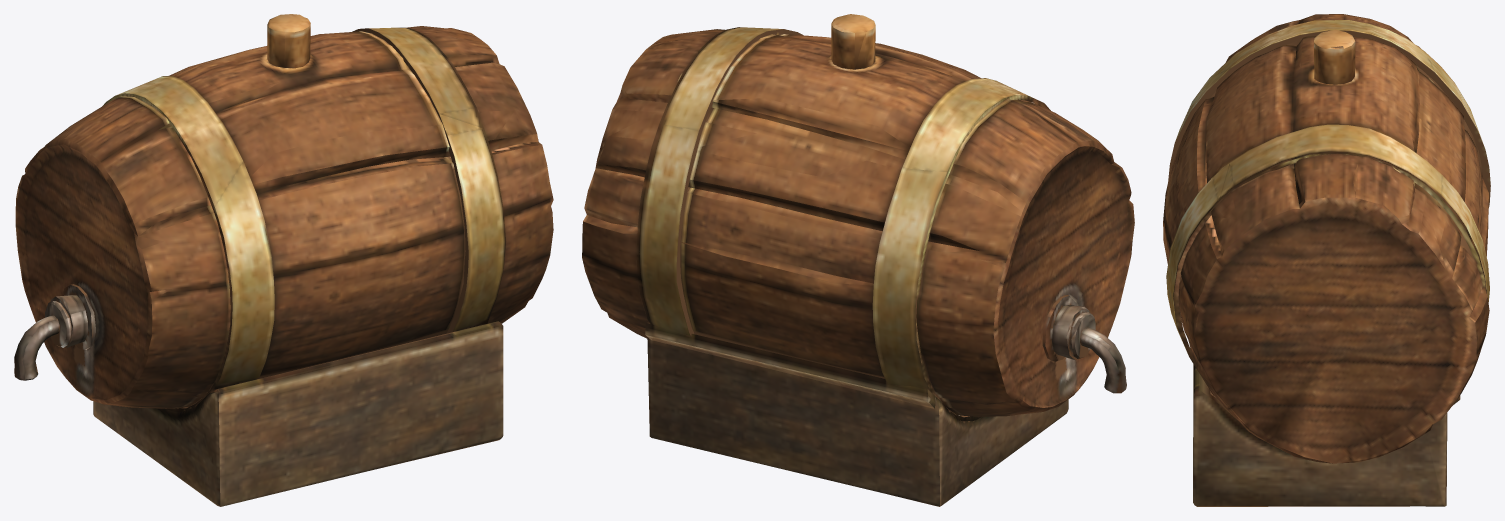
Rendered from item_mm9_10249.glb.
3 renders of one model, left to right at view 1: azimuth 30°, elevation 25°; view 2: azimuth 150°, elevation 25°; view 3: azimuth 270°, elevation 25°, orthographic. The views are drawn at different scales.
Parts seen in each view (by area): view 1: d10249; view 2: d10249; view 3: d10249.
Boxes of the visible parts, <box> form: d10249: <box>14,14,553,506</box>; d10249: <box>582,14,1134,506</box>; d10249: <box>1163,14,1490,506</box>.
Bounding box in the file's own units: 1 × 0.8319 × 0.6171.
1 material, 1 textured.
